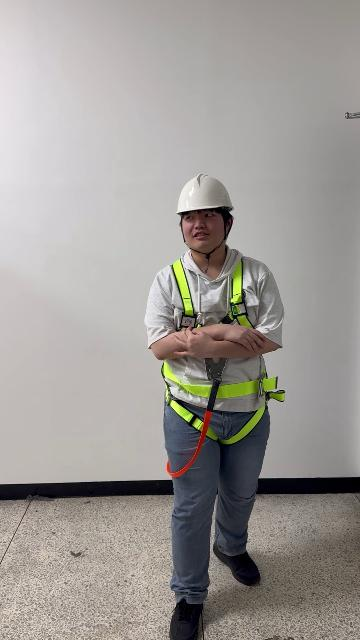helmet_worn: (175, 174, 235, 216)
shoe_not_worn: (213, 542, 260, 586), (169, 597, 203, 639)
vest_worn: (156, 259, 282, 444)
